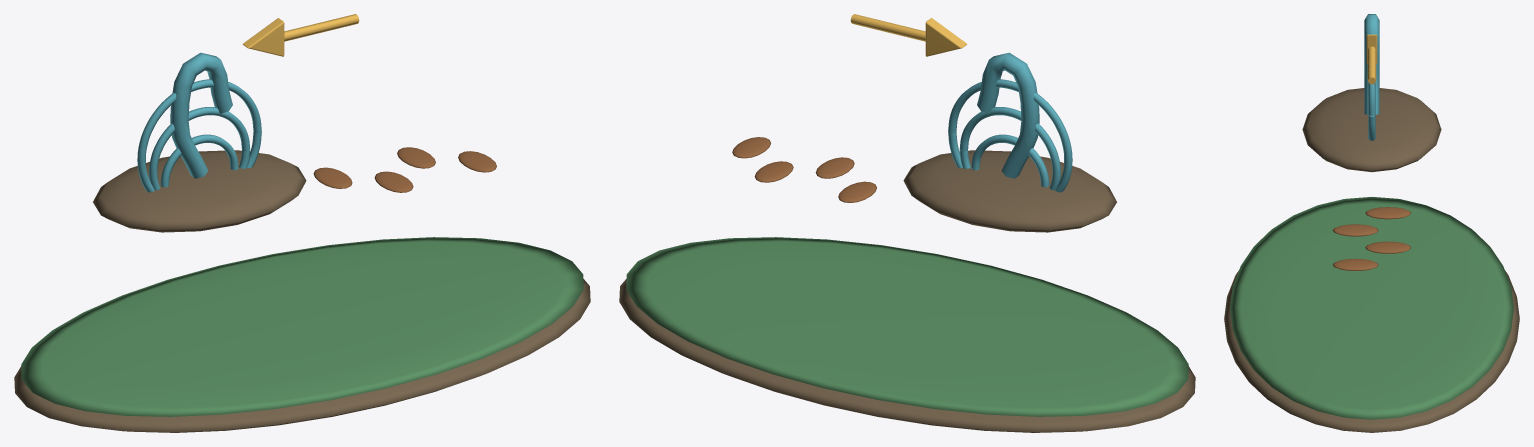
The model's file is complete-second-source-arrival.glb.
3 views of the same model, side by side, from view 1: azimuth 30°, elevation 25°; view 2: azimuth 150°, elevation 25°; view 3: azimuth 270°, elevation 25° (orthographic). The views are drawn at different scales.
Parts seen in each view (by area): view 1: complete-second-source-arrival_surface_01, complete-second-source-arrival_surface_00, complete-second-source-arrival_surface_02, complete-second-source-arrival_surface_03, complete-second-source-arrival_surface_04; view 2: complete-second-source-arrival_surface_01, complete-second-source-arrival_surface_00, complete-second-source-arrival_surface_02, complete-second-source-arrival_surface_03, complete-second-source-arrival_surface_04; view 3: complete-second-source-arrival_surface_01, complete-second-source-arrival_surface_00, complete-second-source-arrival_surface_03, complete-second-source-arrival_surface_02, complete-second-source-arrival_surface_04.
Boxes of the visible parts, left/top/right/bottom form: complete-second-source-arrival_surface_01: left=21, top=237, right=583, bottom=416; complete-second-source-arrival_surface_00: left=14, top=150, right=590, bottom=432; complete-second-source-arrival_surface_02: left=137, top=52, right=261, bottom=192; complete-second-source-arrival_surface_03: left=313, top=147, right=496, bottom=192; complete-second-source-arrival_surface_04: left=242, top=14, right=359, bottom=56; complete-second-source-arrival_surface_01: left=626, top=237, right=1188, bottom=416; complete-second-source-arrival_surface_00: left=619, top=150, right=1195, bottom=432; complete-second-source-arrival_surface_02: left=948, top=52, right=1072, bottom=192; complete-second-source-arrival_surface_03: left=732, top=137, right=876, bottom=202; complete-second-source-arrival_surface_04: left=850, top=14, right=967, bottom=56; complete-second-source-arrival_surface_01: left=1230, top=197, right=1513, bottom=419; complete-second-source-arrival_surface_00: left=1224, top=88, right=1519, bottom=432; complete-second-source-arrival_surface_03: left=1332, top=207, right=1411, bottom=270; complete-second-source-arrival_surface_02: left=1364, top=14, right=1379, bottom=140; complete-second-source-arrival_surface_04: left=1366, top=34, right=1377, bottom=84.
Bounding box in the file's own units: 4.56 × 2.7 × 2.5.
